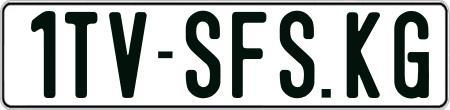1: (29, 9, 55, 102)
F: (229, 9, 264, 100)
G: (393, 10, 428, 98)
K: (347, 10, 380, 102)
S: (278, 10, 317, 100), (184, 11, 220, 98)
T: (65, 12, 99, 98)
V: (107, 12, 146, 99)
